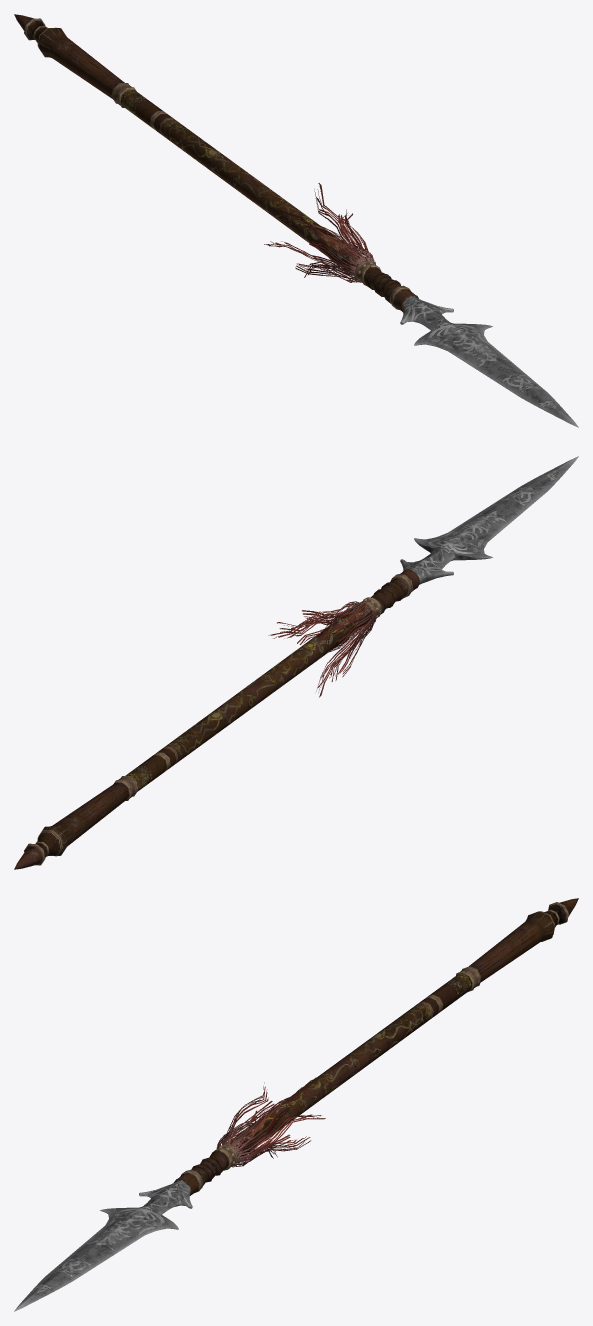
The model's file is partisan.fbx.
The picture shows the model from 3 angles, top to bottom: view 1: azimuth 30°, elevation 25°; view 2: azimuth 150°, elevation 25°; view 3: azimuth 330°, elevation 25°; orthographic projection.
Parts seen in each view (by area): view 1: WP_A_0921.001, WP_A_0921; view 2: WP_A_0921.001, WP_A_0921; view 3: WP_A_0921.001, WP_A_0921.
Part boxes in pixels (x1=…): WP_A_0921.001: x1=14, y1=14, x2=578, y2=427; WP_A_0921: x1=264, y1=183, x2=376, y2=282; WP_A_0921.001: x1=14, y1=456, x2=578, y2=869; WP_A_0921: x1=268, y1=601, x2=376, y2=697; WP_A_0921.001: x1=14, y1=898, x2=578, y2=1311; WP_A_0921: x1=216, y1=1077, x2=325, y2=1167.
Bounding box in the file's own units: 20.35 × 18.33 × 236.
2 materials, 2 textured.
